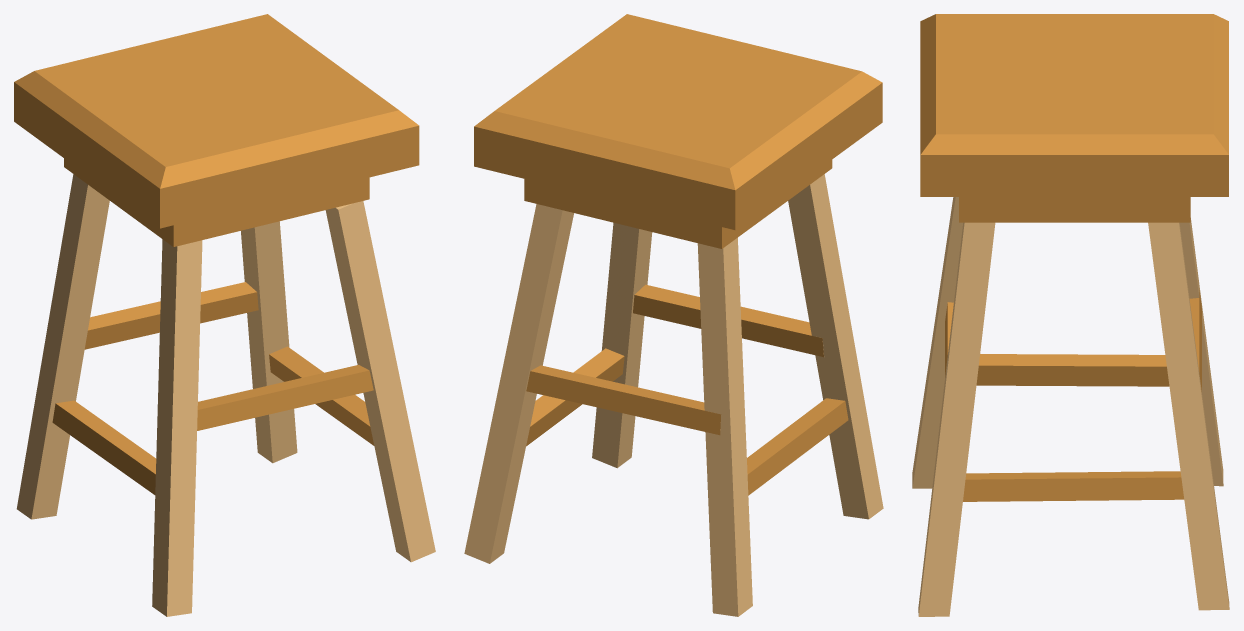
File: stool-normal.glb
3 views of the same model, side by side, from view 1: azimuth 30°, elevation 25°; view 2: azimuth 150°, elevation 25°; view 3: azimuth 270°, elevation 25° (orthographic). The views are drawn at different scales.
Parts seen in each view (by area): view 1: Node; view 2: Node; view 3: Node.
Boxes of the visible parts, <box> form: Node: <box>14,14,435,616</box>; Node: <box>464,14,883,616</box>; Node: <box>912,14,1229,616</box>.
Size of the model in its own units: 0.435 by 0.6755 by 0.4111.
